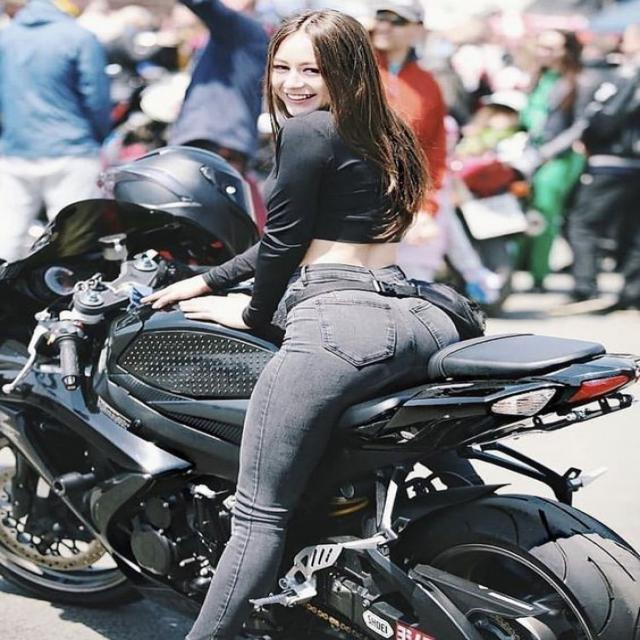No helmet: (265, 11, 373, 132)
